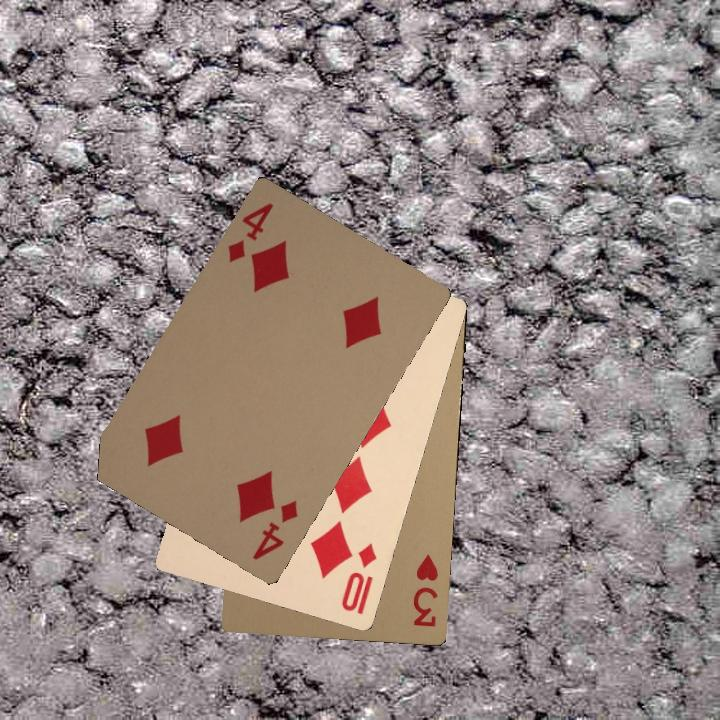10d: (337, 539, 380, 617)
3h: (408, 551, 441, 630)
4d: (248, 496, 301, 563), (223, 198, 276, 265)
